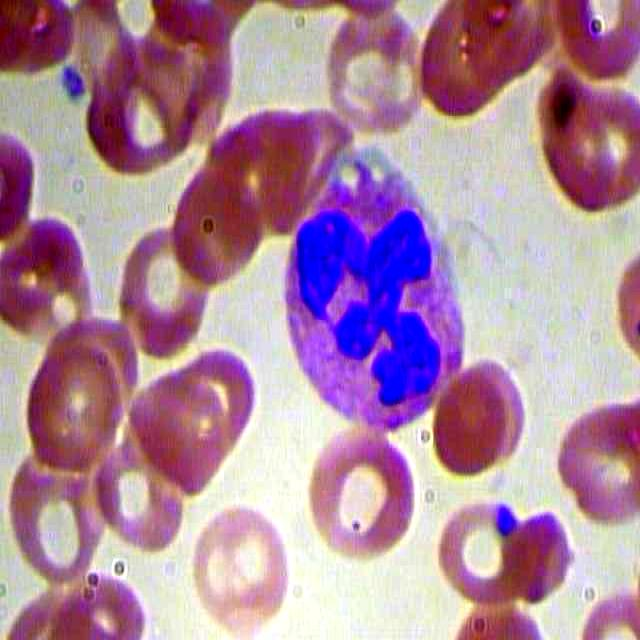RBC: (79, 34, 203, 178), (301, 427, 419, 565), (320, 1, 426, 144), (531, 64, 624, 219), (115, 221, 210, 367), (9, 440, 104, 585), (169, 147, 264, 292), (23, 338, 121, 474), (129, 367, 234, 493), (192, 501, 292, 631), (554, 396, 640, 535), (434, 491, 528, 605), (96, 449, 186, 554), (433, 364, 510, 477), (507, 508, 574, 605)
WBC: (274, 135, 473, 445)
